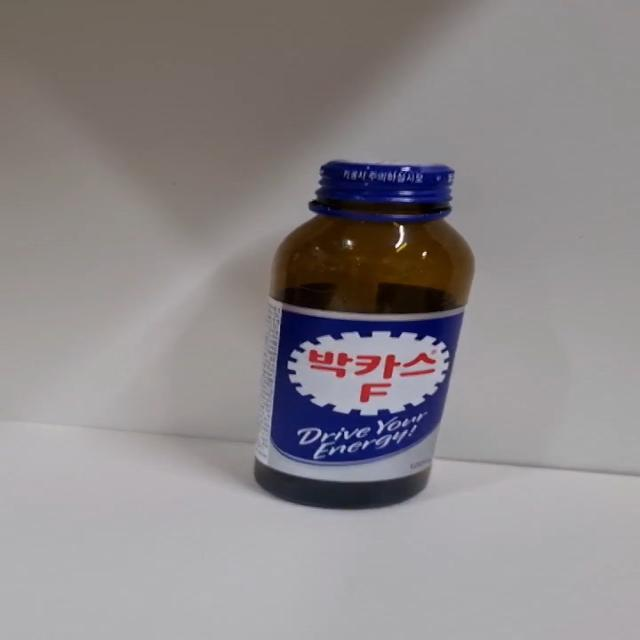Glass: (253, 160, 476, 512)
